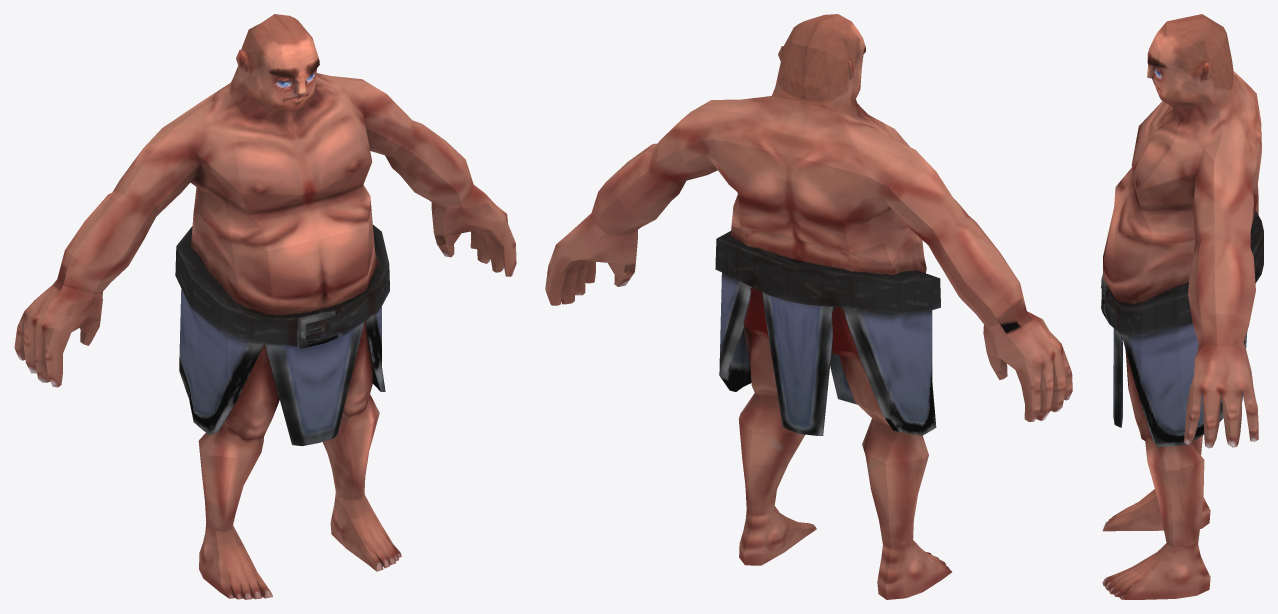
Rendered from gordo-npc.glb.
3 views of the same model, side by side, from view 1: azimuth 30°, elevation 25°; view 2: azimuth 150°, elevation 25°; view 3: azimuth 270°, elevation 25° (orthographic). The views are drawn at different scales.
Parts seen in each view (by area): view 1: Body, Cint; view 2: Body, Cint; view 3: Body, Cint.
Boxes of the visible parts, x1,y1,x2,y2 form: Body: (14,14,516,599); Cint: (175,225,389,446); Body: (545,14,1072,599); Cint: (715,231,940,435); Body: (1102,14,1261,599); Cint: (1101,210,1263,447).
Size of the model in its own units: 2.29 by 2.46 by 0.6712.
Materials: 2 (2 with a texture image).
